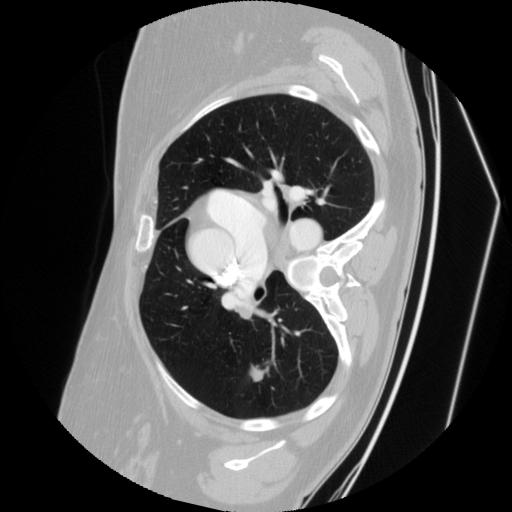nodule: (246, 363, 270, 387)
